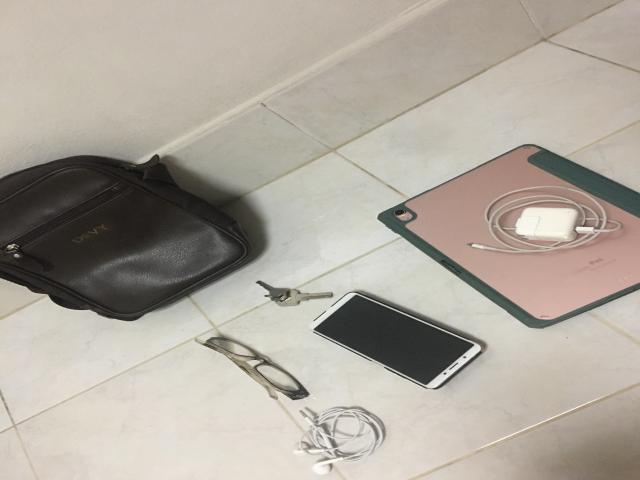Glasses: (195, 338, 308, 399)
Keys: (257, 281, 333, 307)
Mobile phone: (310, 292, 482, 389)
wire: (468, 186, 622, 253), (293, 407, 385, 474)
